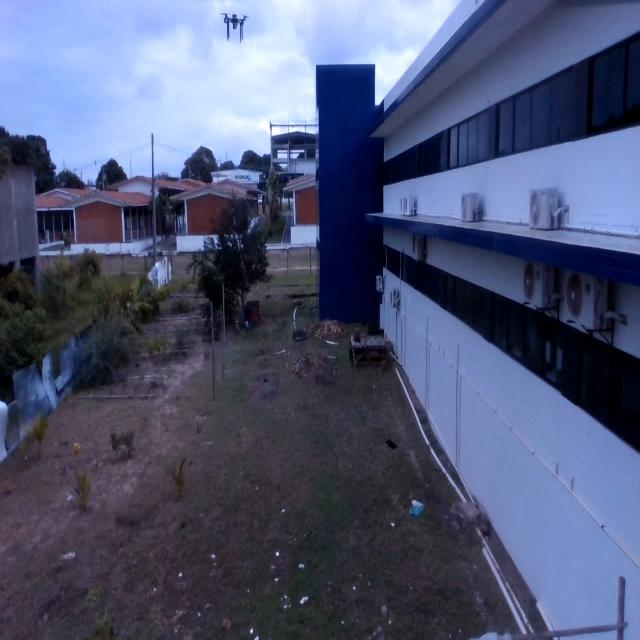-uav-: (218, 1, 254, 52)
